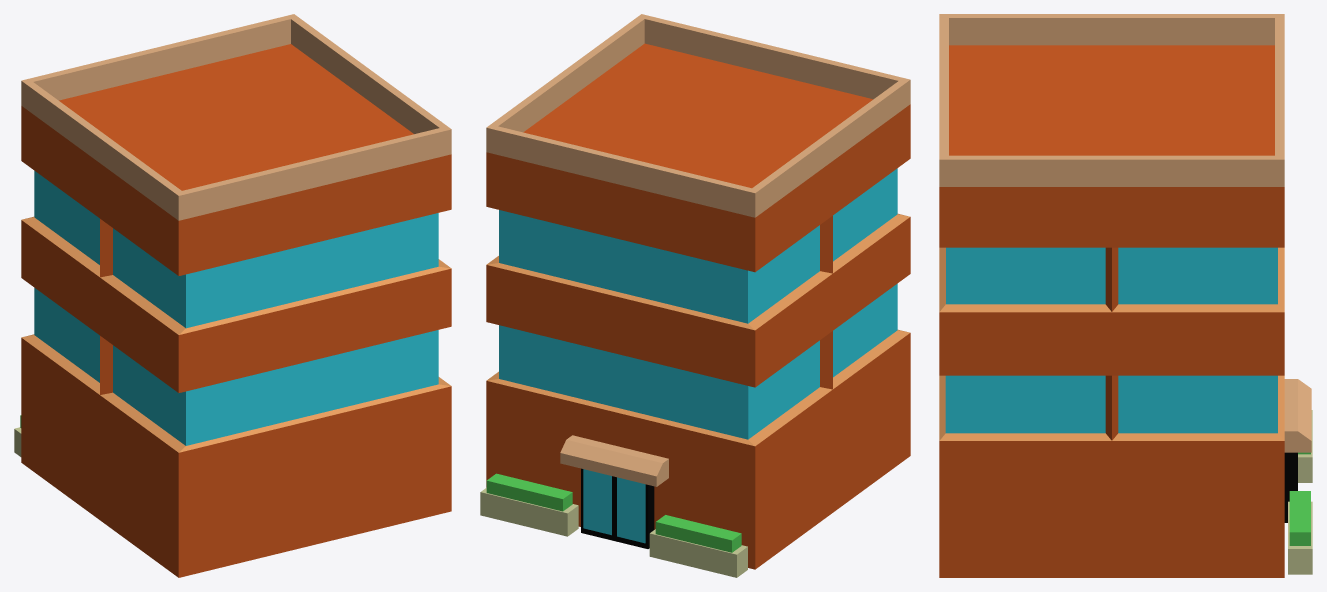
Rendered from OfficeBuilding04.fbx.
3 renders of one model, left to right at view 1: azimuth 30°, elevation 25°; view 2: azimuth 150°, elevation 25°; view 3: azimuth 270°, elevation 25°, orthographic. The views are drawn at different scales.
Parts seen in each view (by area): view 1: Cube; view 2: Cube; view 3: Cube.
Part boxes in pixels (bbox=[...]): Cube: bbox=[14, 14, 451, 577]; Cube: bbox=[480, 14, 910, 577]; Cube: bbox=[939, 14, 1312, 577].
Size of the model in its own units: 800 by 1071 by 865.
